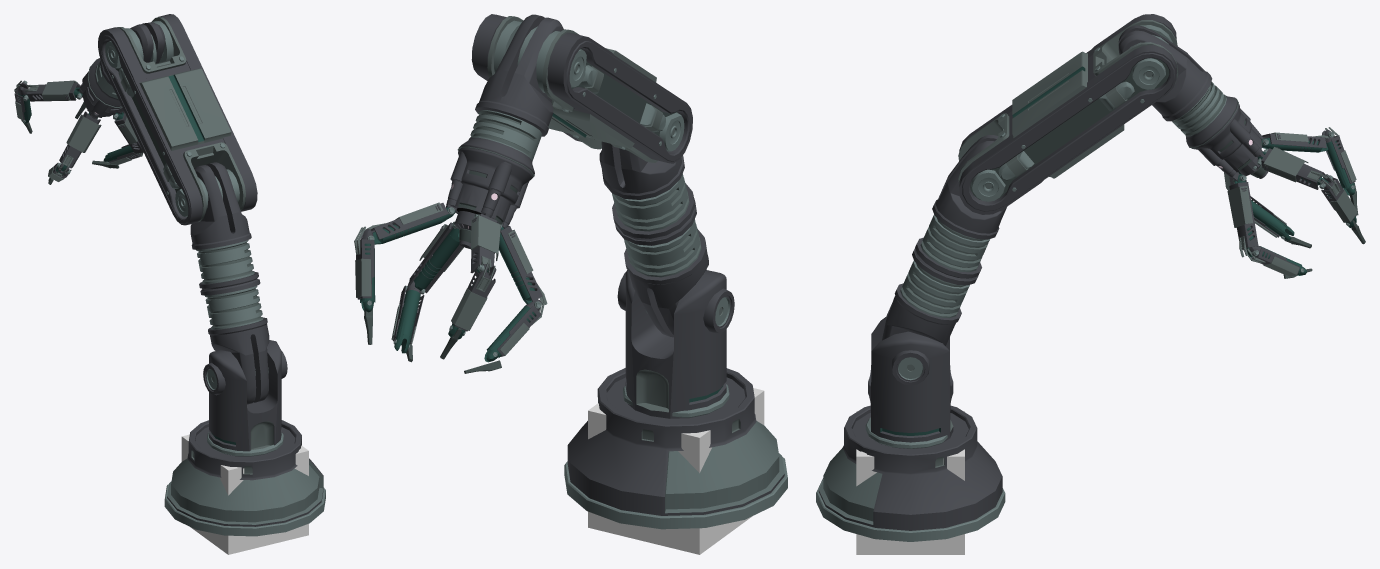
Rendered from fix3.fbx.
3 views of the same model, side by side, from view 1: azimuth 30°, elevation 25°; view 2: azimuth 150°, elevation 25°; view 3: azimuth 270°, elevation 25° (orthographic). The views are drawn at different scales.
Parts seen in each view (by area): view 1: Cube.003, Cylinder.004, Cylinder, Cylinder.006, Cylinder.014, Cube, Cylinder.013, Cylinder.046, Cylinder.063, Cylinder.055, Cylinder.047, Cylinder.005 (+1 smaller); view 2: Cylinder, Cube.003, Cylinder.014, Cylinder.004, Cylinder.006, Cube, Cylinder.013, Cylinder.047, Cylinder.046, Cylinder.092, Cylinder.055, Cylinder.072 (+4 smaller); view 3: Cube.003, Cylinder, Cylinder.004, Cylinder.006, Cylinder.014, Cube, Cylinder.013, Cylinder.047, Cylinder.092, Cylinder.063, Cylinder.055, Cylinder.072 (+2 smaller).
Part boxes in pixels (box(x1,y1,x2,y2)): Cube.003: box(98, 14, 257, 225); Cylinder.004: box(190, 162, 269, 404); Cylinder: box(167, 420, 323, 526); Cylinder.006: box(203, 340, 287, 456); Cylinder.014: box(78, 22, 165, 118); Cube: box(181, 434, 308, 554); Cylinder.013: box(164, 484, 325, 536); Cylinder.046: box(59, 111, 101, 173); Cylinder.063: box(23, 80, 82, 101); Cylinder.055: box(14, 80, 31, 123); Cylinder.047: box(113, 111, 143, 153); Cylinder.005: box(207, 432, 283, 456); Cylinder: box(567, 368, 784, 515); Cube.003: box(471, 14, 692, 163); Cylinder.014: box(446, 14, 563, 248); Cylinder.004: box(599, 141, 708, 337); Cylinder.006: box(617, 270, 734, 418); Cube: box(588, 388, 764, 554); Cylinder.013: box(564, 456, 787, 529); Cylinder.047: box(403, 221, 463, 293); Cylinder.046: box(498, 223, 547, 304); Cylinder.092: box(364, 202, 455, 244); Cylinder.055: box(448, 262, 496, 339); Cylinder.072: box(354, 226, 375, 312); Cube.003: box(958, 14, 1178, 214); Cylinder: box(818, 405, 1002, 530); Cylinder.004: box(881, 135, 1006, 345); Cylinder.006: box(868, 317, 953, 448); Cylinder.014: box(1118, 25, 1268, 181); Cube: box(856, 411, 964, 554); Cylinder.013: box(816, 478, 1005, 541); Cylinder.047: box(1227, 174, 1258, 257); Cylinder.092: box(1257, 147, 1332, 189); Cylinder.063: box(1262, 132, 1328, 152); Cylinder.055: box(1322, 127, 1356, 195); Cylinder.072: box(1319, 174, 1357, 227).
Bounding box in the file's own units: 349 × 1023 × 1014.
